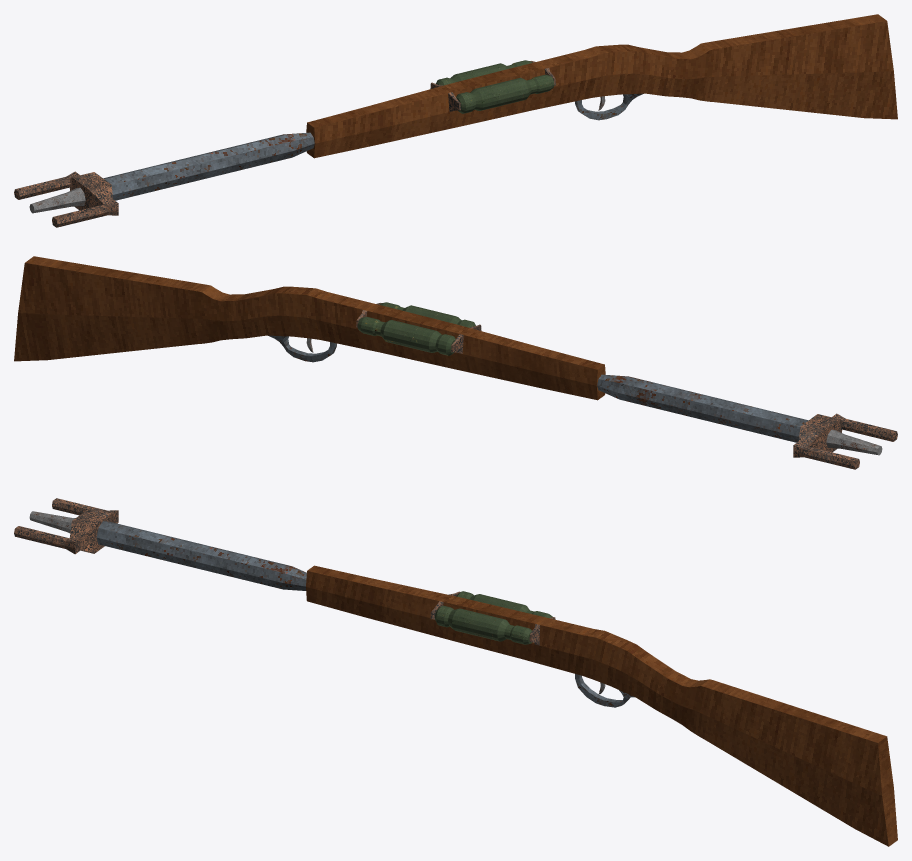
File: lightning gun.glb
3 renders of one model, top to bottom at view 1: azimuth 30°, elevation 25°; view 2: azimuth 150°, elevation 25°; view 3: azimuth 330°, elevation 25°, orthographic.
Visible parts, largest first — view 1: Cube, Battery, Battery.001; view 2: Cube, Battery.001, Battery; view 3: Cube, Battery.
Part boxes in pixels (box(x1,y1,x2,y2)): Cube: box(14, 14, 897, 227); Battery: box(456, 74, 554, 113); Battery.001: box(436, 60, 531, 85); Cube: box(14, 256, 897, 469); Battery.001: box(357, 316, 455, 355); Battery: box(380, 302, 475, 327); Cube: box(14, 498, 897, 846); Battery: box(435, 605, 532, 644).
Bounding box in the file's own units: 14.4 × 2.2 × 1.26.
5 materials, 5 textured.
